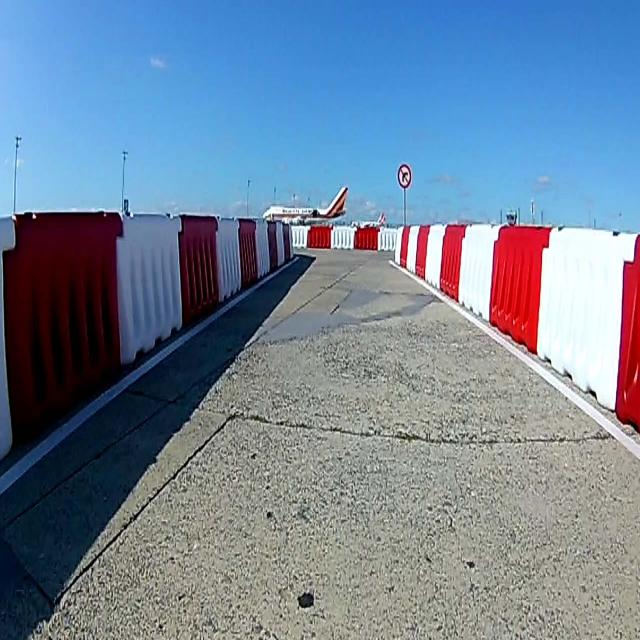sagadonulmez: (397, 163, 411, 190)
